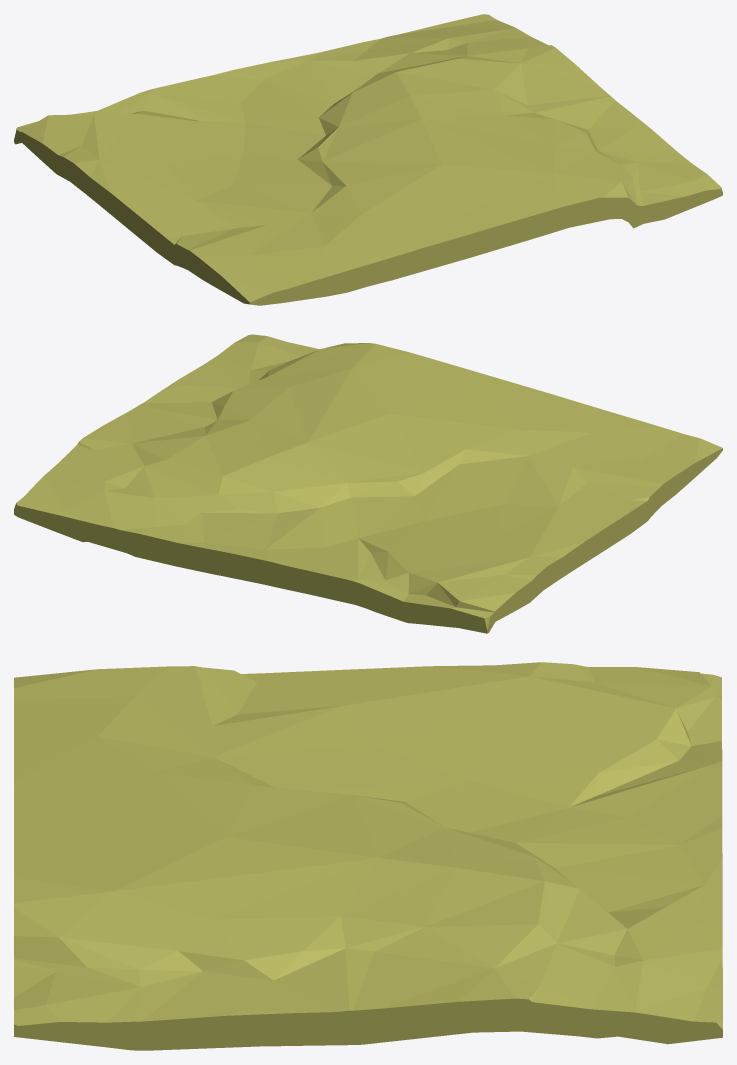
3 renders of one model, top to bottom at view 1: azimuth 30°, elevation 25°; view 2: azimuth 150°, elevation 25°; view 3: azimuth 270°, elevation 25°, orthographic. The views are drawn at different scales.
Visible parts, largest first — view 1: plane_LOD0; view 2: plane_LOD0; view 3: plane_LOD0.
Part boxes in pixels (x1,y1,x2,y2): plane_LOD0: (14,14,722,305); plane_LOD0: (14,334,722,633); plane_LOD0: (14,662,722,1050).
Size of what is drawn, in the model's own units: 3862 by 392 by 3341.
